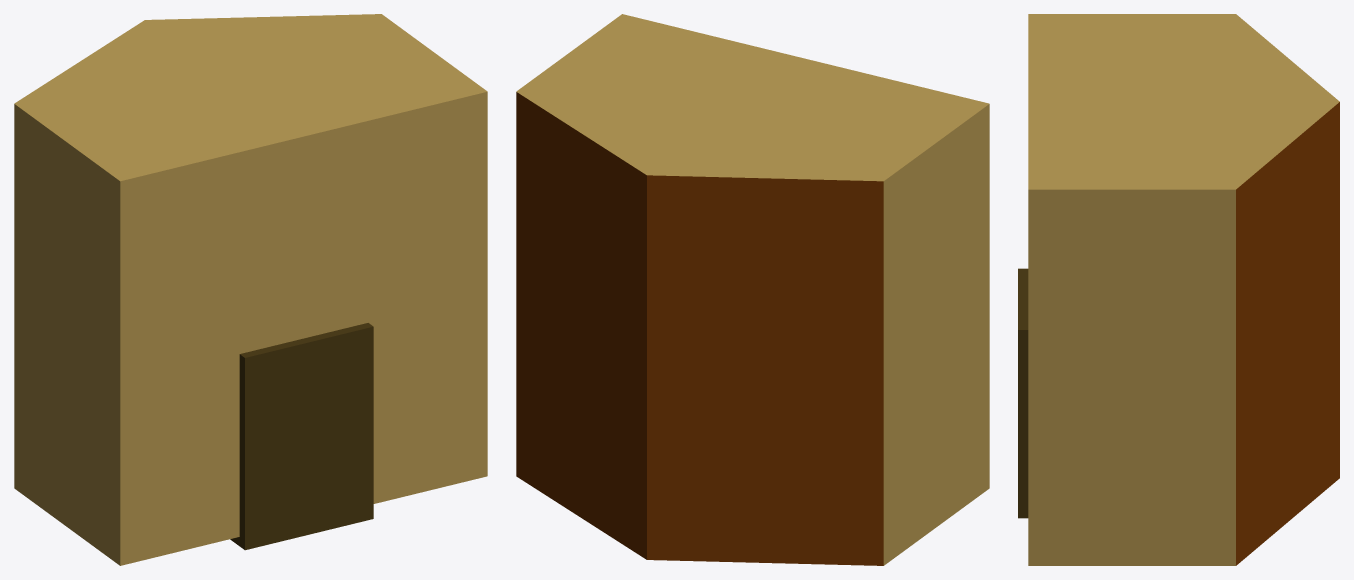
File: Warehouse.fbx
3 renders of one model, left to right at view 1: azimuth 30°, elevation 25°; view 2: azimuth 150°, elevation 25°; view 3: azimuth 270°, elevation 25°, orthographic. The views are drawn at different scales.
Parts seen in each view (by area): view 1: Cube; view 2: Cube; view 3: Cube.
Boxes of the visible parts, <box> form: Cube: <box>14,14,487,565</box>; Cube: <box>516,14,989,565</box>; Cube: <box>1018,14,1339,565</box>.
Size of the model in its own units: 4 by 4.1 by 3.1.
